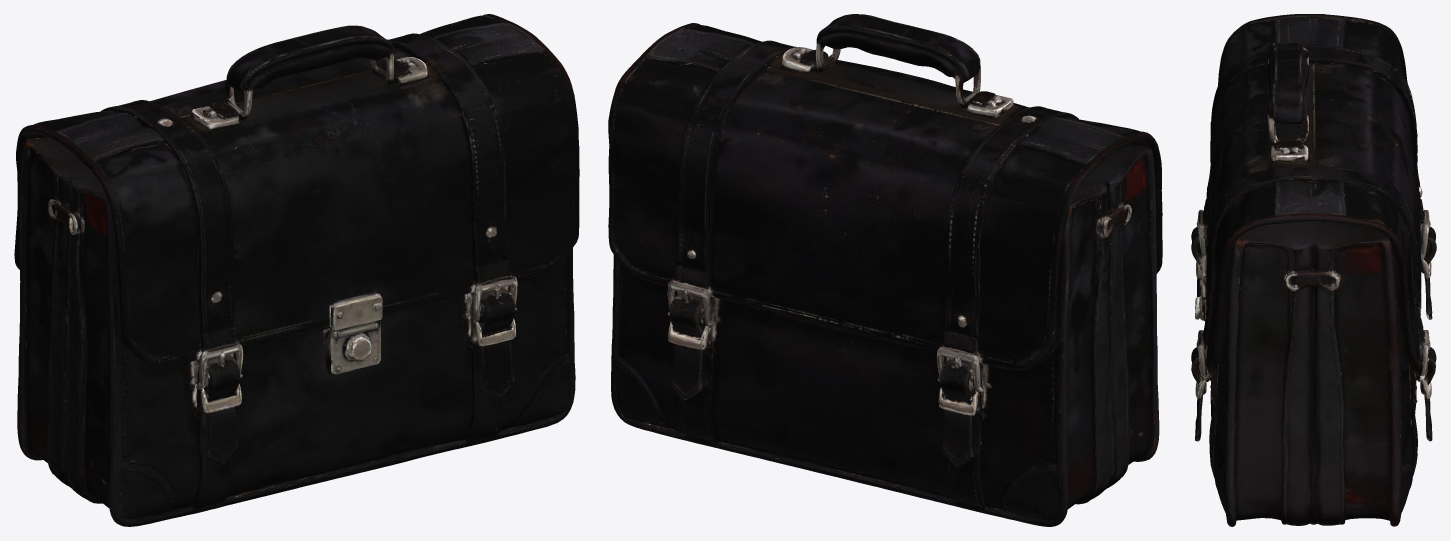
File: briefcase.glb
The picture shows the model from 3 angles, left to right: view 1: azimuth 30°, elevation 25°; view 2: azimuth 150°, elevation 25°; view 3: azimuth 270°, elevation 25°; orthographic projection. The views are drawn at different scales.
Visible parts, largest first — view 1: world; view 2: world; view 3: world.
Boxes of the visible parts, left/top/right/bottom form: world: left=14, top=14, right=579, bottom=526; world: left=608, top=14, right=1162, bottom=526; world: left=1191, top=14, right=1436, bottom=526.
Size of the model in its own units: 1.99 by 1.66 by 0.9959.
1 material, 1 textured.
